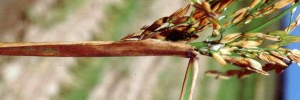RiceSheathBrownRot: (3, 6, 295, 79)
